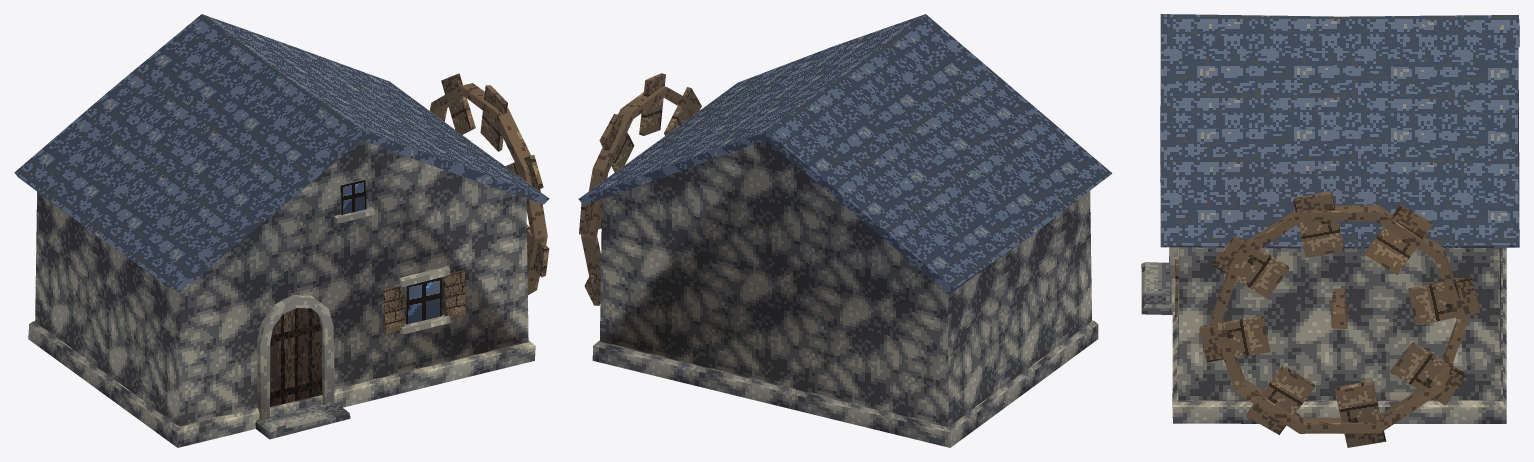
File: vlg.mill__watermill.glb
3 views of the same model, side by side, from view 1: azimuth 30°, elevation 25°; view 2: azimuth 150°, elevation 25°; view 3: azimuth 270°, elevation 25° (orthographic). The views are drawn at different scales.
Parts seen in each view (by area): view 1: kit_walls, kit_roof, kit_fittings, kit_stonework, kit_frame; view 2: kit_walls, kit_roof, kit_stonework, kit_fittings, kit_frame; view 3: kit_roof, kit_walls, kit_fittings, kit_frame, kit_stonework.
Part boxes in pixels (x1=…): kit_walls: x1=35, y1=140, x2=528, y2=426; kit_roof: x1=14, y1=14, x2=549, y2=292; kit_fittings: x1=255, y1=73, x2=549, y2=439; kit_stonework: x1=28, y1=321, x2=535, y2=447; kit_frame: x1=429, y1=83, x2=547, y2=294; kit_walls: x1=600, y1=140, x2=1091, y2=426; kit_roof: x1=578, y1=14, x2=1112, y2=294; kit_stonework: x1=592, y1=320, x2=1098, y2=447; kit_fittings: x1=579, y1=73, x2=701, y2=305; kit_frame: x1=581, y1=86, x2=697, y2=290; kit_roof: x1=1160, y1=14, x2=1519, y2=248; kit_walls: x1=1178, y1=247, x2=1500, y2=401; kit_fittings: x1=1141, y1=191, x2=1480, y2=447; kit_frame: x1=1211, y1=205, x2=1467, y2=433; kit_stonework: x1=1172, y1=247, x2=1506, y2=423.
Size of the model in its own units: 8.17 by 5.5 by 5.85.
8 materials, 8 textured.
